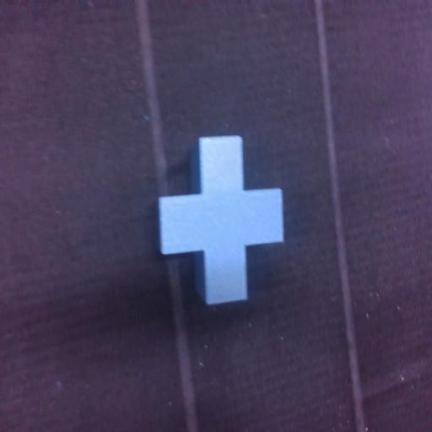cross: (159, 136, 283, 304)
